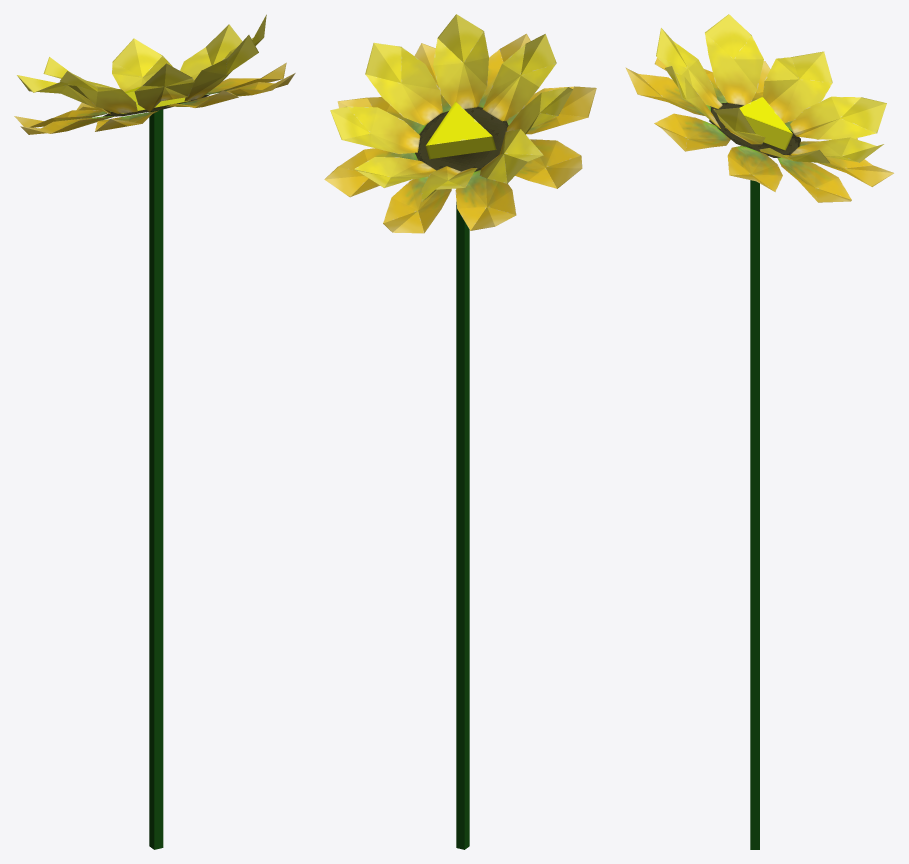
The model's file is Play_Button.fbx.
The picture shows the model from 3 angles, left to right: view 1: azimuth 30°, elevation 25°; view 2: azimuth 150°, elevation 25°; view 3: azimuth 270°, elevation 25°; orthographic projection. The views are drawn at different scales.
Parts seen in each view (by area): view 1: stem, petal_12, petal_8, petal_15, petal_9, petal_13, petal_10, petal_2, petal_6, petal_3, petal_1, petal_7; view 2: stem, petal_14, petal_15, petal_8, petal_13, petal_3, petal_4, play, disk, petal_2, petal_10, petal_12 (+7 smaller); view 3: stem, petal_9, petal_10, petal_11, petal_8, petal_7, petal_5, petal_6, play, petal, petal_12, petal_4 (+3 smaller).
Boxes of the visible parts, x1=… form: stem: x1=149, y1=109, x2=163, y2=849; petal_12: x1=112, y1=38, x2=172, y2=91; petal_8: x1=134, y1=63, x2=194, y2=111; petal_15: x1=184, y1=35, x2=258, y2=101; petal_9: x1=60, y1=71, x2=137, y2=113; petal_13: x1=180, y1=24, x2=242, y2=80; petal_10: x1=17, y1=75, x2=111, y2=114; petal_2: x1=20, y1=115, x2=116, y2=134; petal_6: x1=205, y1=62, x2=286, y2=94; petal_3: x1=14, y1=110, x2=111, y2=127; petal_1: x1=95, y1=110, x2=158, y2=131; petal_7: x1=228, y1=73, x2=295, y2=96; stem: x1=456, y1=202, x2=469, y2=849; petal_14: x1=365, y1=42, x2=442, y2=125; petal_15: x1=433, y1=14, x2=488, y2=109; petal_8: x1=482, y1=34, x2=556, y2=121; petal_13: x1=330, y1=106, x2=420, y2=153; petal_3: x1=455, y1=169, x2=516, y2=230; petal_4: x1=383, y1=176, x2=451, y2=233; play: x1=425, y1=101, x2=496, y2=158; disk: x1=415, y1=107, x2=508, y2=171; petal_2: x1=515, y1=139, x2=582, y2=188; petal_10: x1=479, y1=129, x2=543, y2=183; petal_12: x1=354, y1=157, x2=436, y2=187; stem: x1=750, y1=180, x2=759, y2=849; petal_9: x1=705, y1=14, x2=763, y2=105; petal_10: x1=762, y1=51, x2=832, y2=123; petal_11: x1=790, y1=96, x2=886, y2=139; petal_8: x1=656, y1=28, x2=722, y2=108; petal_7: x1=654, y1=113, x2=730, y2=151; petal_5: x1=777, y1=157, x2=851, y2=202; petal_6: x1=727, y1=145, x2=782, y2=191; play: x1=725, y1=97, x2=792, y2=150; petal: x1=625, y1=67, x2=711, y2=116; petal_12: x1=790, y1=137, x2=883, y2=162; petal_4: x1=799, y1=141, x2=893, y2=186.
Size of the model in its own units: 18.49 by 56.11 by 16.99.
Materials: 5 (5 with a texture image).
